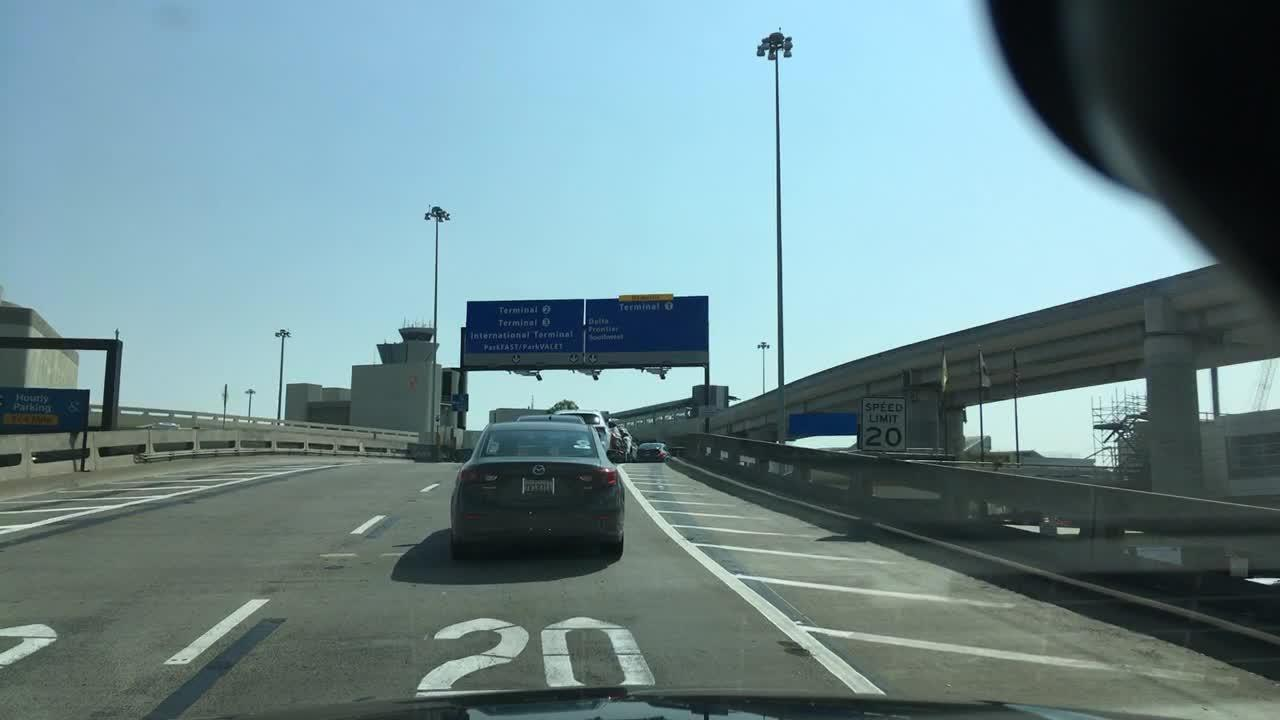Mazda: (527, 460, 549, 480)
